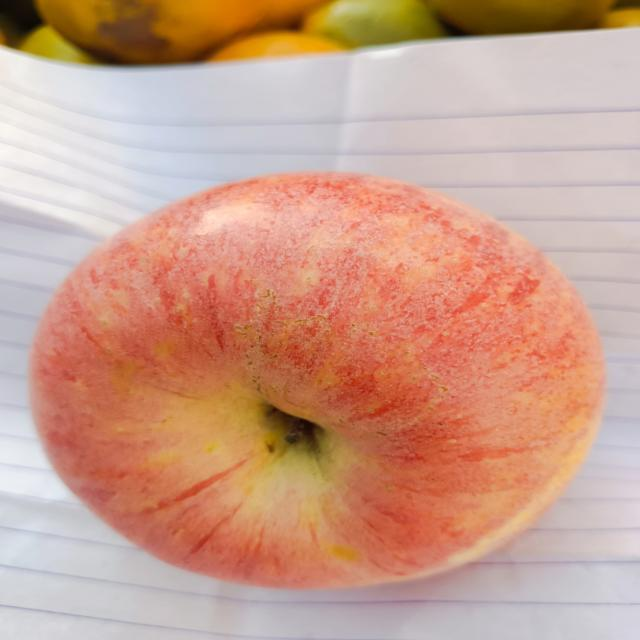Fresh Apple: (33, 173, 597, 582)
